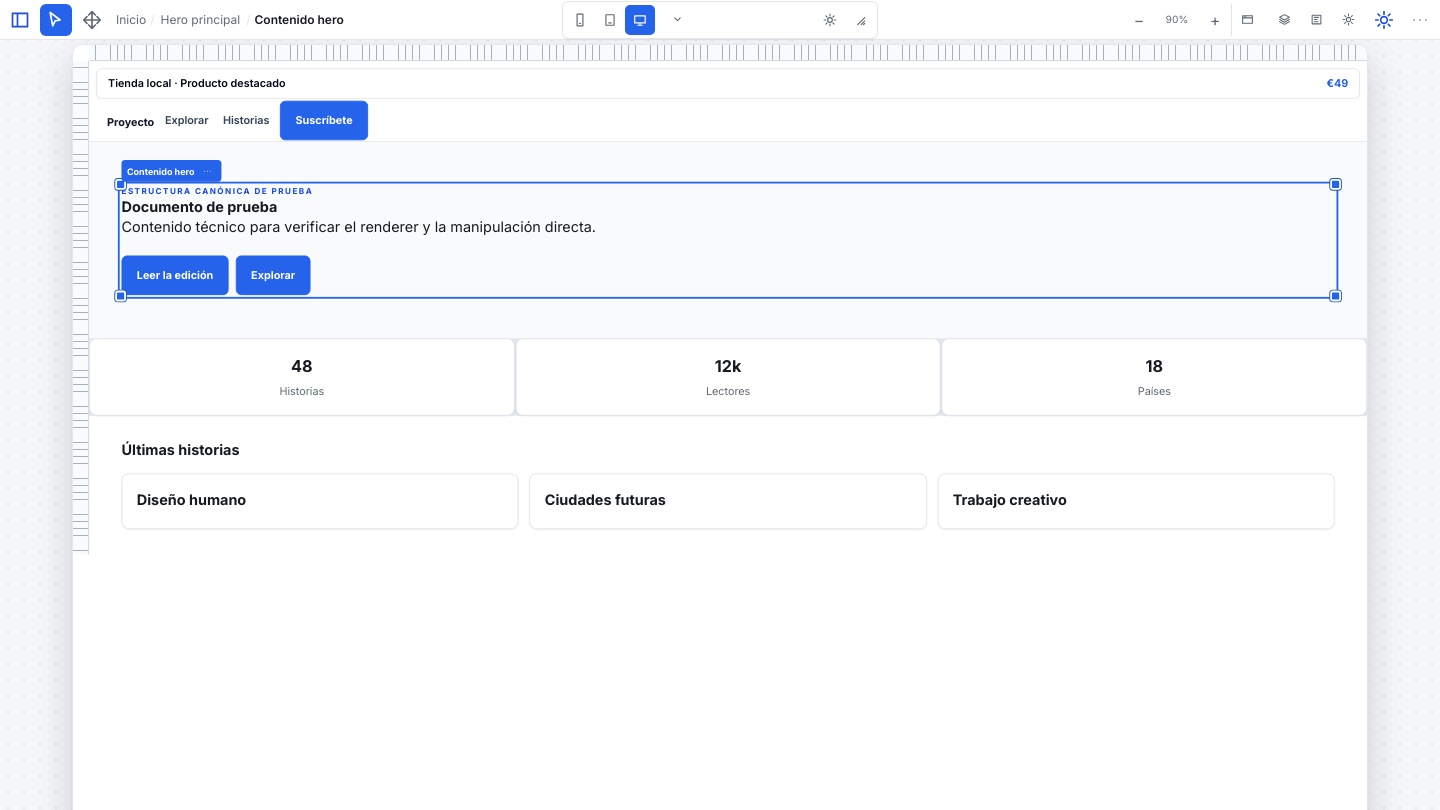
it: M05.4 direct manipulation UI › abre el menú contextual sin arrastre y aplica tamaño y espaciado mediante la sesión
The image size is (1440, 810).
Click the button named "Abrir menú contextual de Contenido hero".
click(207, 171)  # box [198, 162, 216, 180]
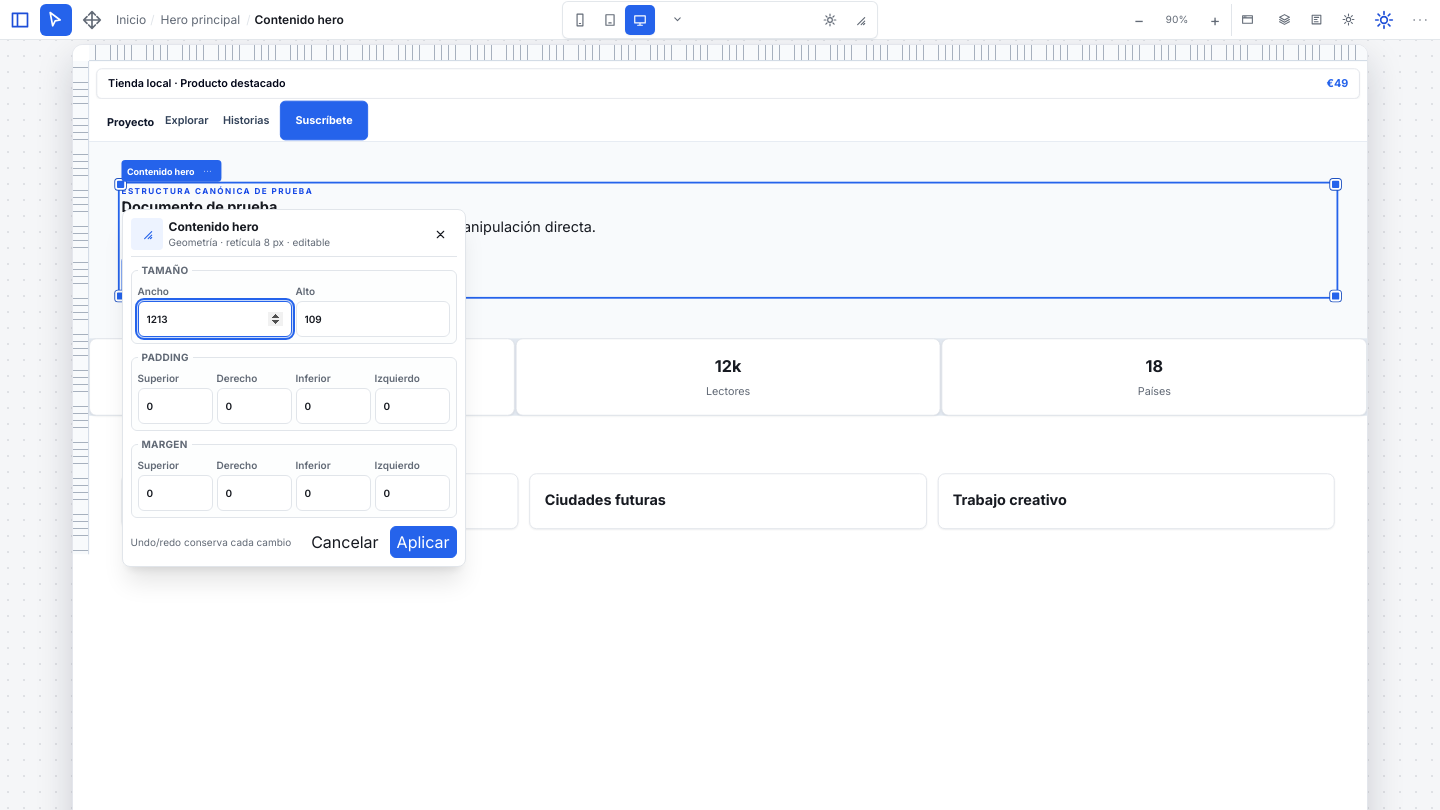
Now the dialog named "Menú contextual de Contenido hero" is shown, box [122, 209, 466, 567]
Replace the text in the number field named "Ancho del nodo" with "480" at [214, 319], box [138, 301, 292, 337]
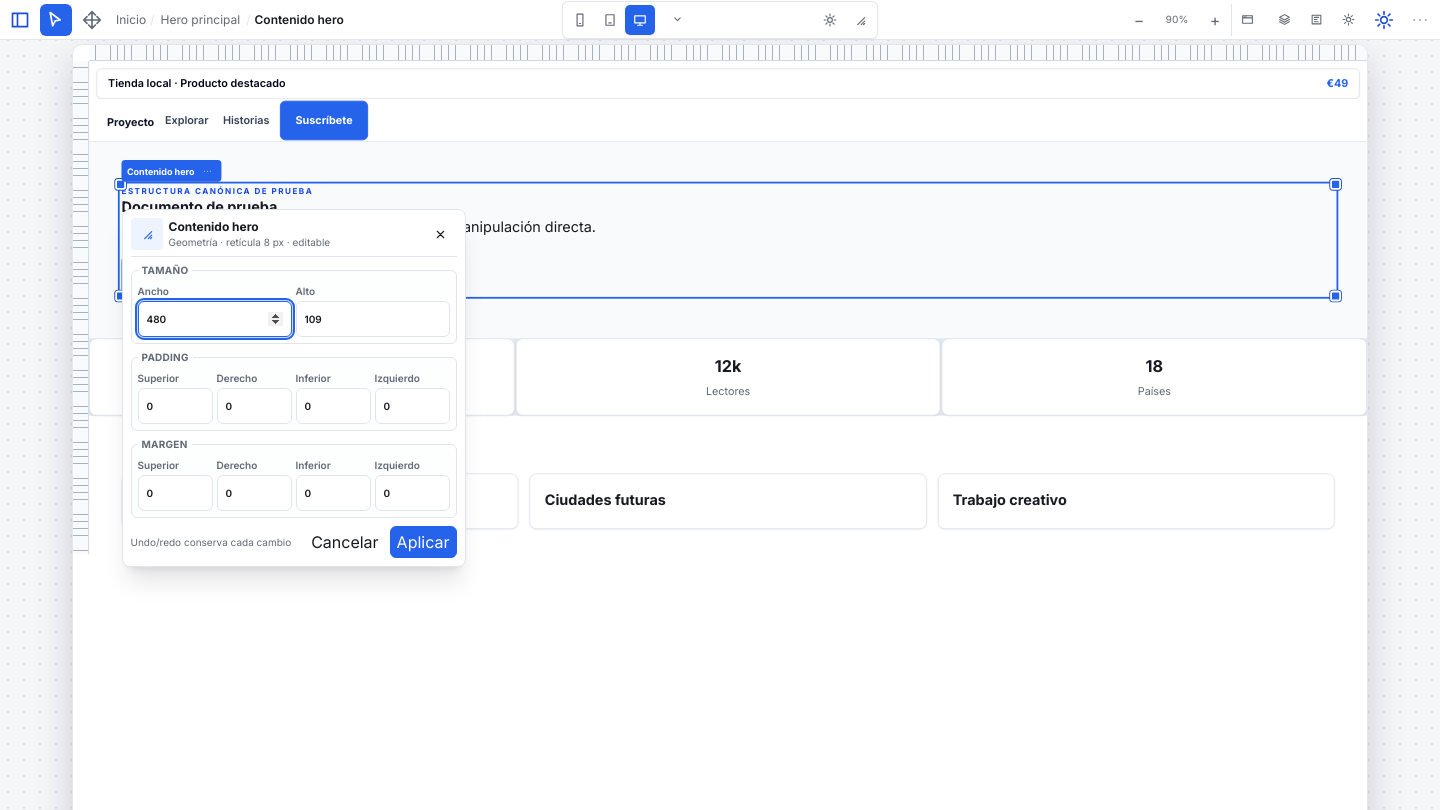
Replace the text in the number field named "Padding Superior" with "16" at [175, 406], box [138, 388, 212, 424]
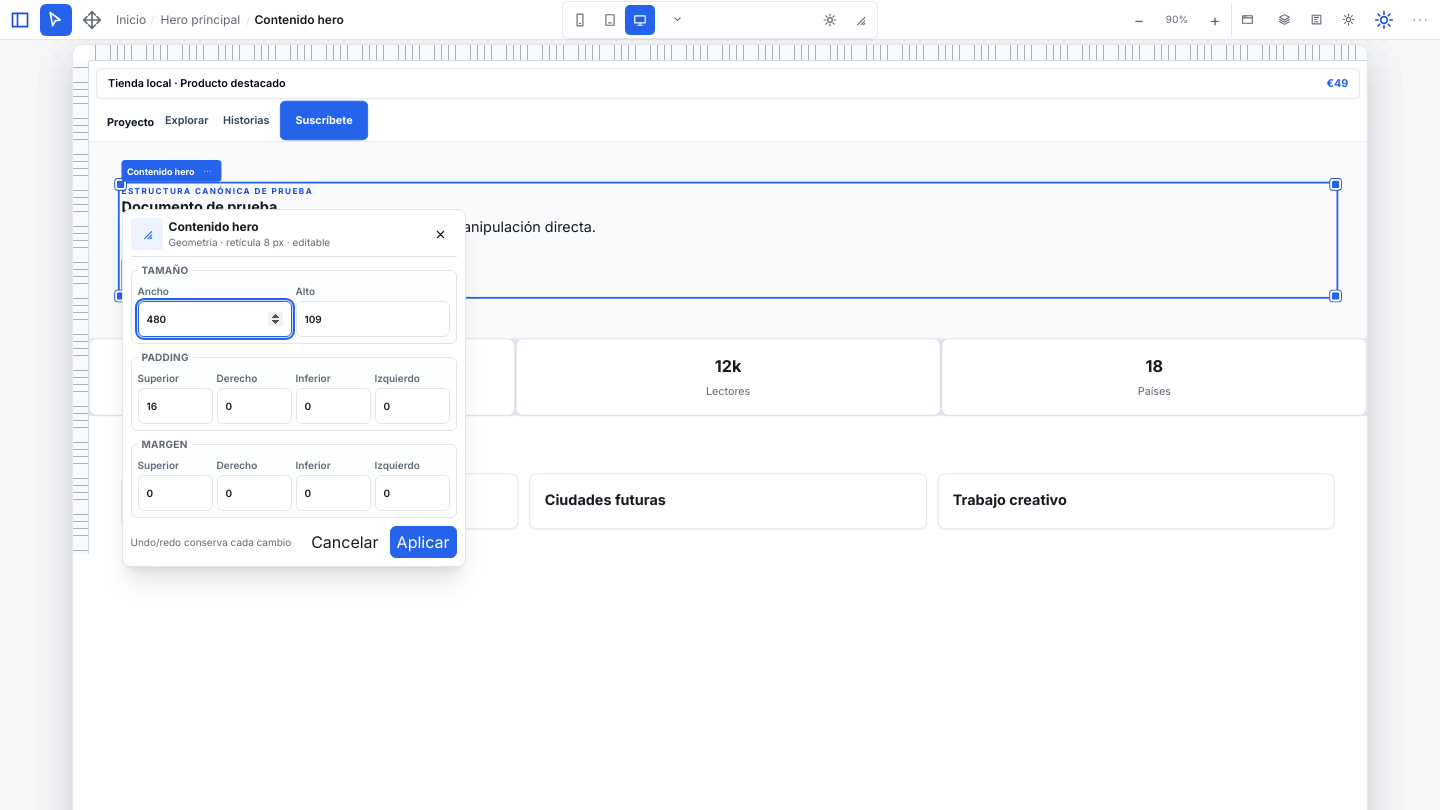
Click the button "Aplicar".
click(423, 542)  # box [390, 526, 456, 558]
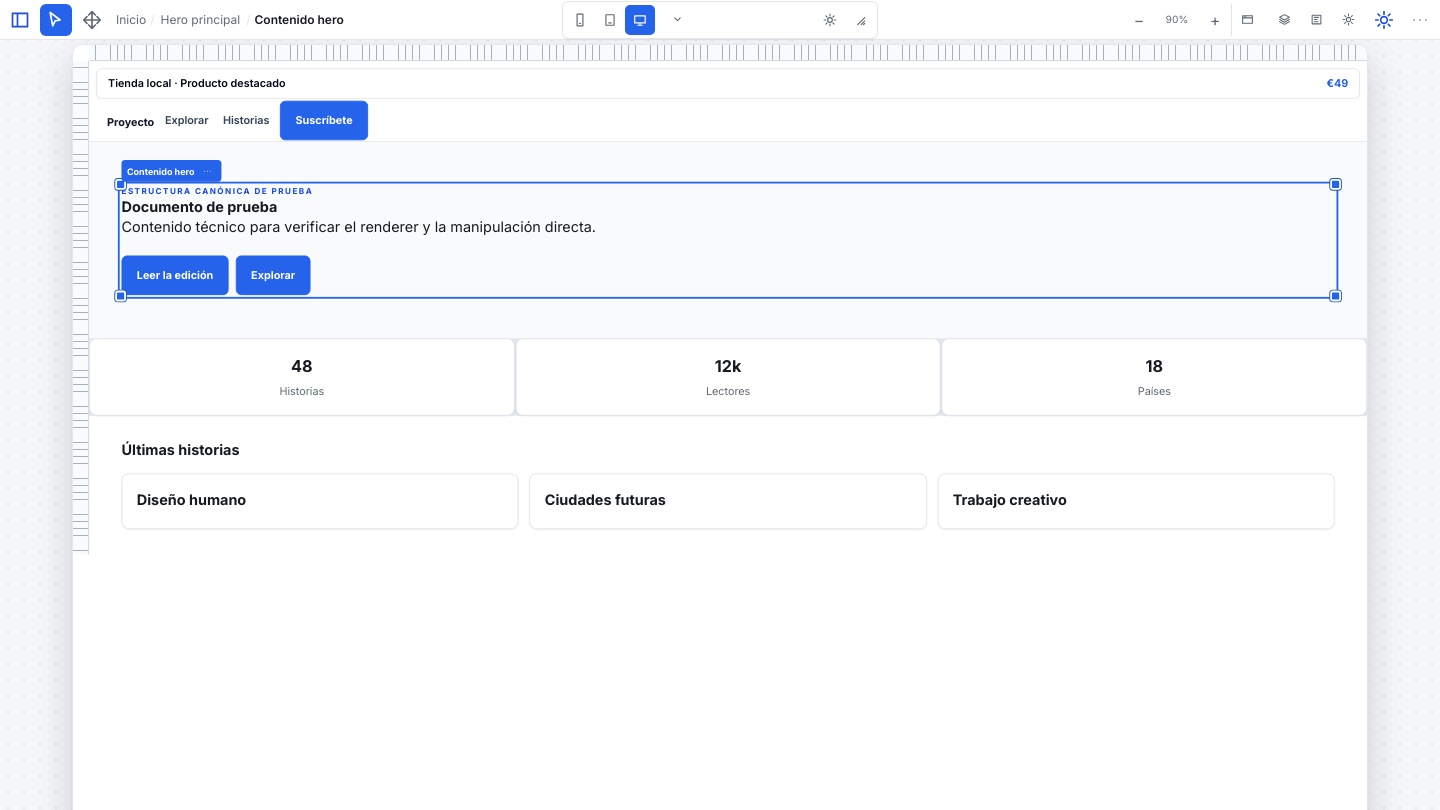
Now the dialog with test id "direct-manipulation-menu" is gone
